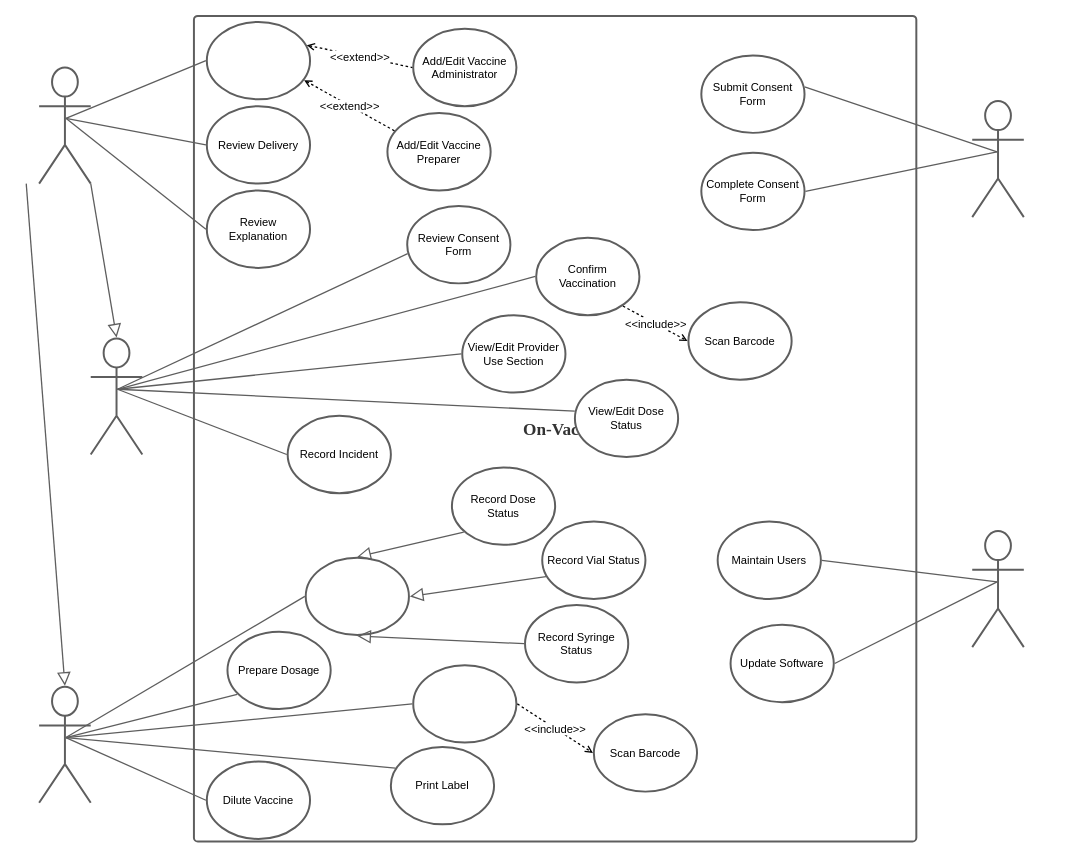
Some shapes in this 1082 by 857 pixel diagram are drawn without their labels. The shapes that lost their labels are listed below. From the top down, each one's centre as x and y in pixels, then its label:
At point (258, 60): "Check Accreditation and Training".
At point (64, 125): "Vaccine Coordinator".
At point (997, 159): "Patient".
At point (116, 396): "Vaccine Administrator".
At point (357, 596): "Write Explanation".
At point (997, 589): "IT Administrator".
At point (464, 703): "Record Delivery".
At point (64, 744): "Vaccine Preparer".
